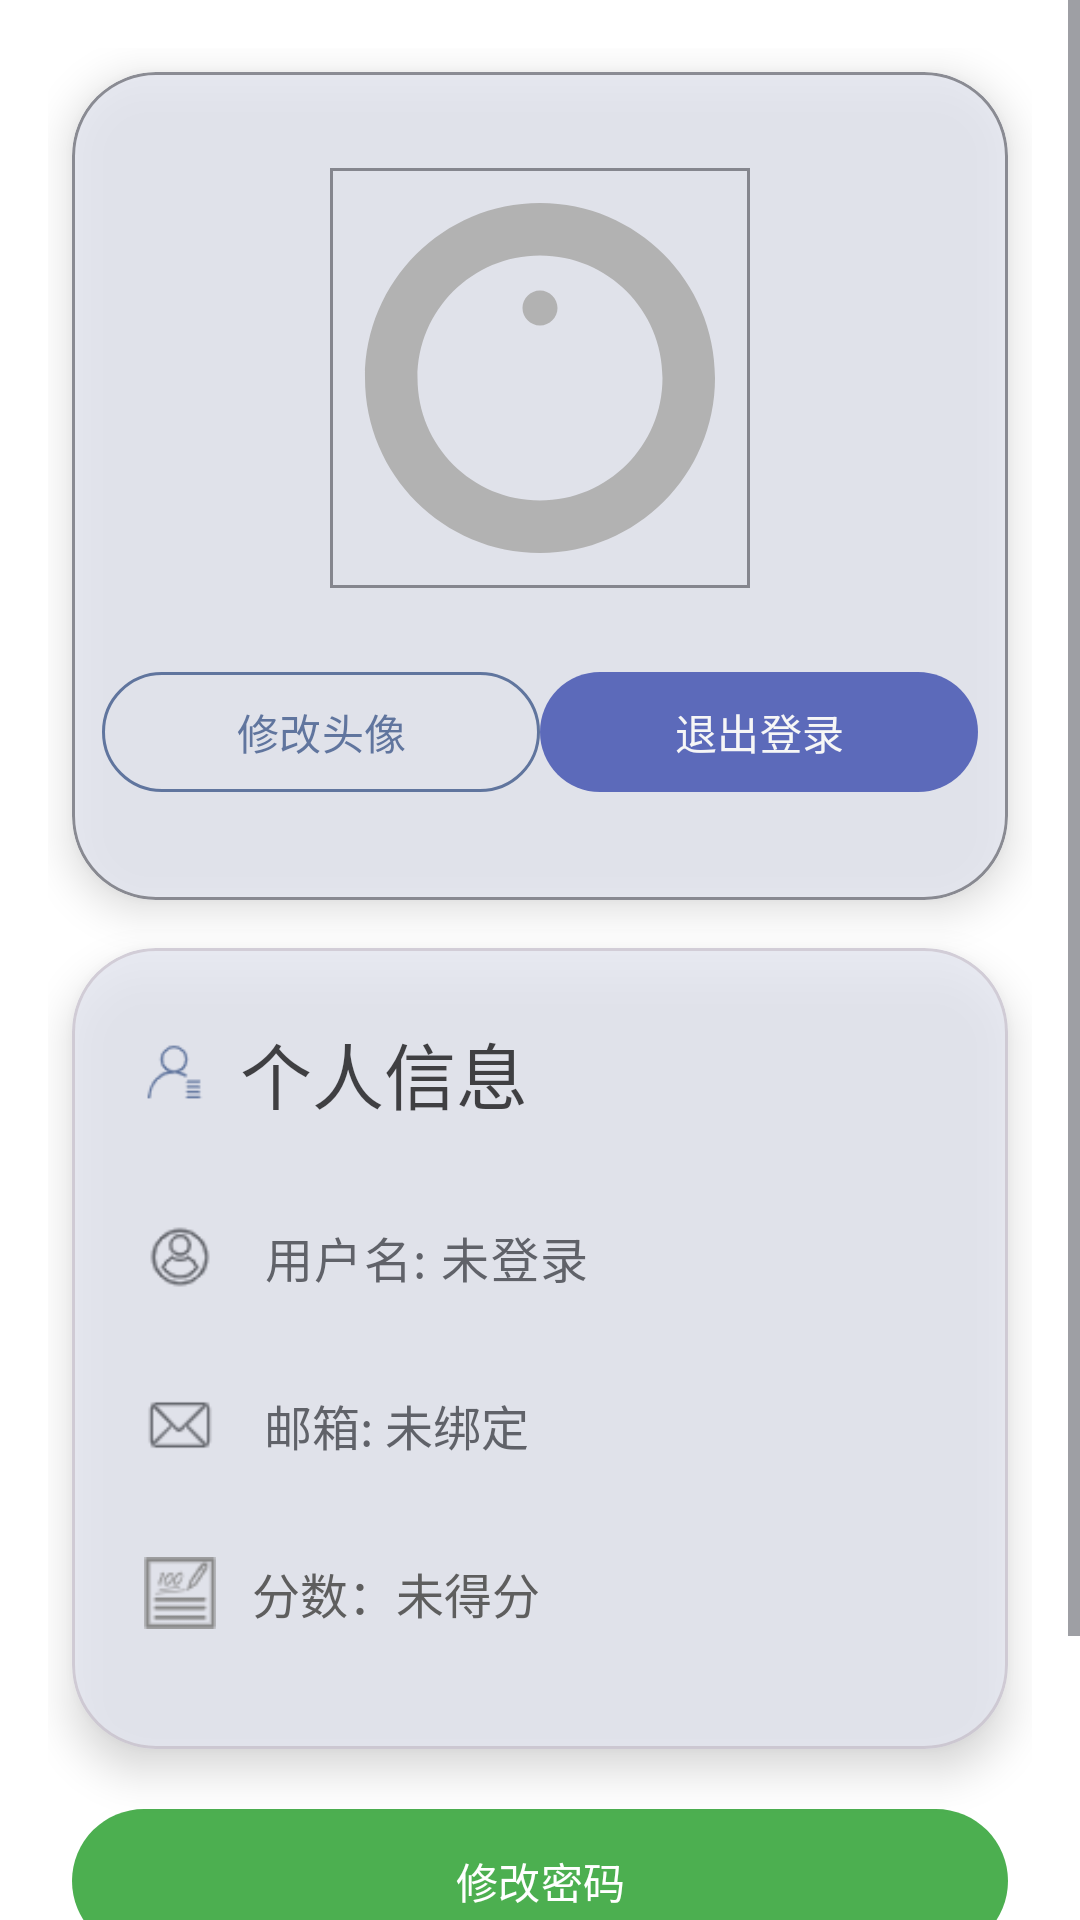

Screen size 1080px×1920px. Icon name, then its center in pixels as point (x, y):
email: point (180, 1425)
person: point (180, 1257)
person info: point (174, 1072)
score: point (180, 1593)
